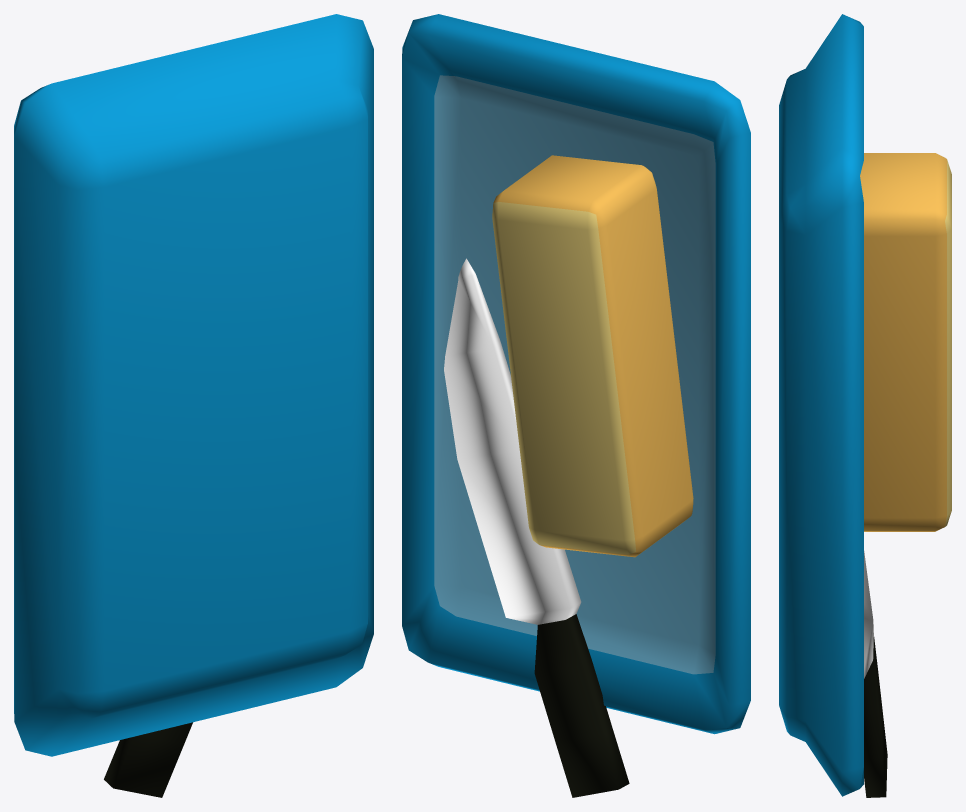
The model's file is Butter.glb.
3 views of the same model, side by side, from view 1: azimuth 30°, elevation 25°; view 2: azimuth 150°, elevation 25°; view 3: azimuth 270°, elevation 25° (orthographic). The views are drawn at different scales.
Parts seen in each view (by area): view 1: butter; view 2: butter; view 3: butter.
Part boxes in pixels (x1=…): butter: x1=14, y1=14, x2=373, y2=797; butter: x1=402, y1=14, x2=750, y2=797; butter: x1=779, y1=14, x2=951, y2=797.
Bounding box in the file's own units: 6.32 × 12.67 × 2.73.
1 material, 1 textured.
